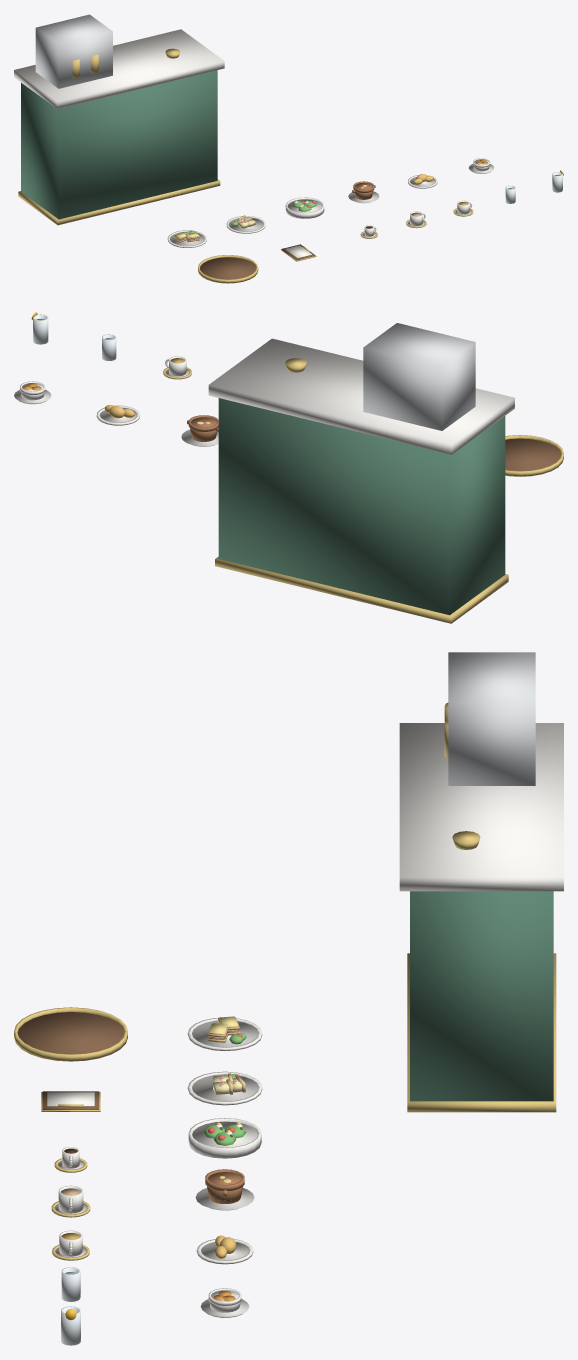
File: ParisCafeProps.fbx
3 renders of one model, top to bottom at view 1: azimuth 30°, elevation 25°; view 2: azimuth 150°, elevation 25°; view 3: azimuth 270°, elevation 25°, orthographic. The views are drawn at different scales.
Visible parts, largest first — view 1: ServiceCounter_Mesh, ServingTray_Body, Bowl, Crock, Plate.001, Plate, BillTray_Base; view 2: ServiceCounter_Mesh, ServingTray_Body, Crock, Ramekin, Plate.002, Prop_Tea_Vessel, Prop_OrangeJuice_Vessel; view 3: ServiceCounter_Mesh, ServingTray_Body, Bowl, Crock, Plate.001, Plate, BillTray_Base, Ramekin, Plate.002.
Boxes of the visible parts, x1,y1,x2,y2 form: ServiceCounter_Mesh: [14, 14, 224, 225]; ServingTray_Body: [198, 255, 258, 283]; Bowl: [285, 197, 324, 218]; Crock: [348, 181, 379, 203]; Plate.001: [226, 216, 265, 233]; Plate: [167, 230, 206, 247]; BillTray_Base: [281, 244, 316, 261]; ServiceCounter_Mesh: [208, 323, 514, 623]; ServingTray_Body: [505, 435, 563, 476]; Crock: [181, 415, 218, 446]; Ramekin: [14, 381, 51, 404]; Plate.002: [96, 405, 139, 425]; Prop_Tea_Vessel: [163, 356, 192, 379]; Prop_OrangeJuice_Vessel: [33, 314, 48, 344]; ServiceCounter_Mesh: [399, 652, 563, 1112]; ServingTray_Body: [14, 1007, 127, 1061]; Bowl: [188, 1118, 261, 1158]; Crock: [195, 1169, 254, 1210]; Plate.001: [187, 1071, 262, 1105]; Plate: [187, 1017, 262, 1050]; BillTray_Base: [41, 1091, 100, 1111]; Ramekin: [200, 1288, 249, 1317]; Plate.002: [196, 1238, 253, 1264].
Size of the model in its own units: 3.56 by 1.38 by 2.14.
